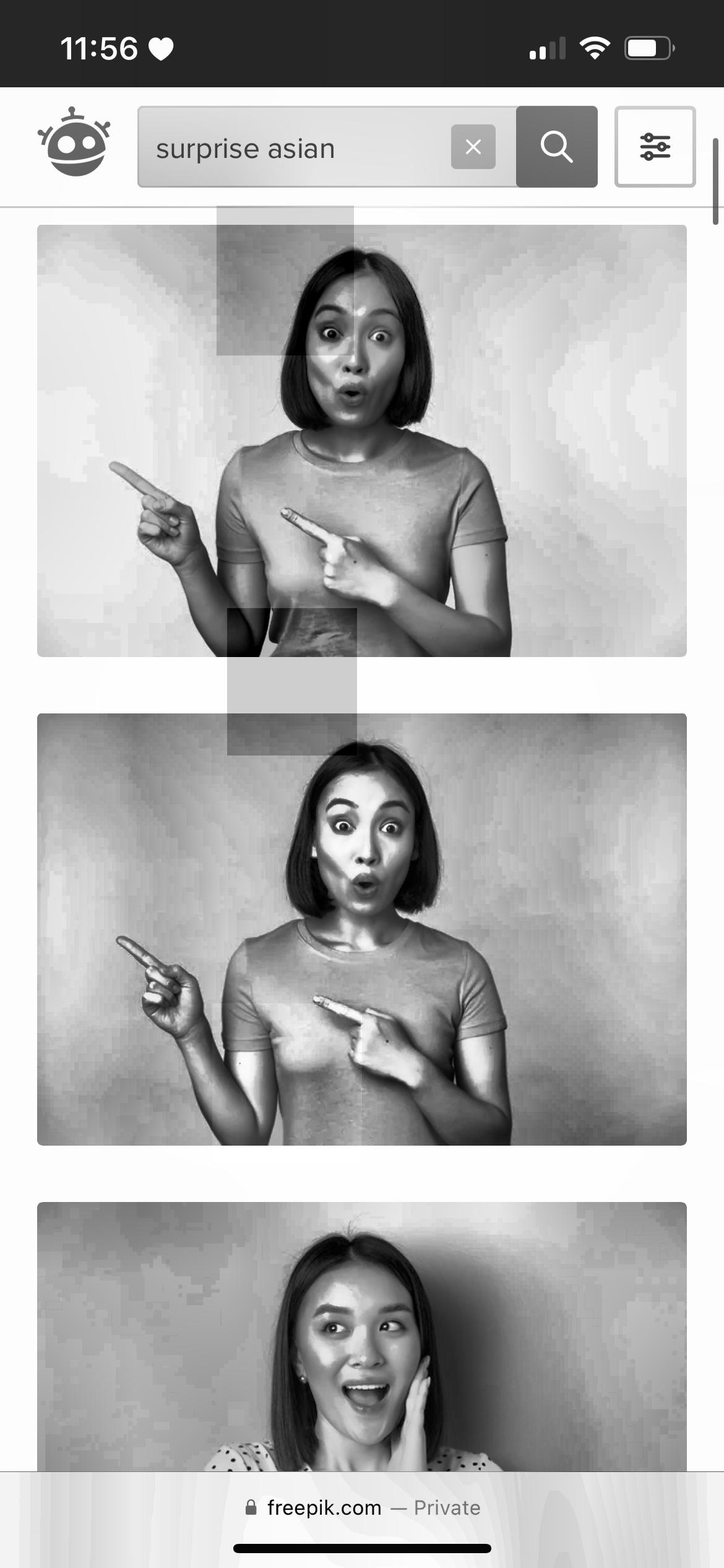surprised: (268, 254, 438, 439)
